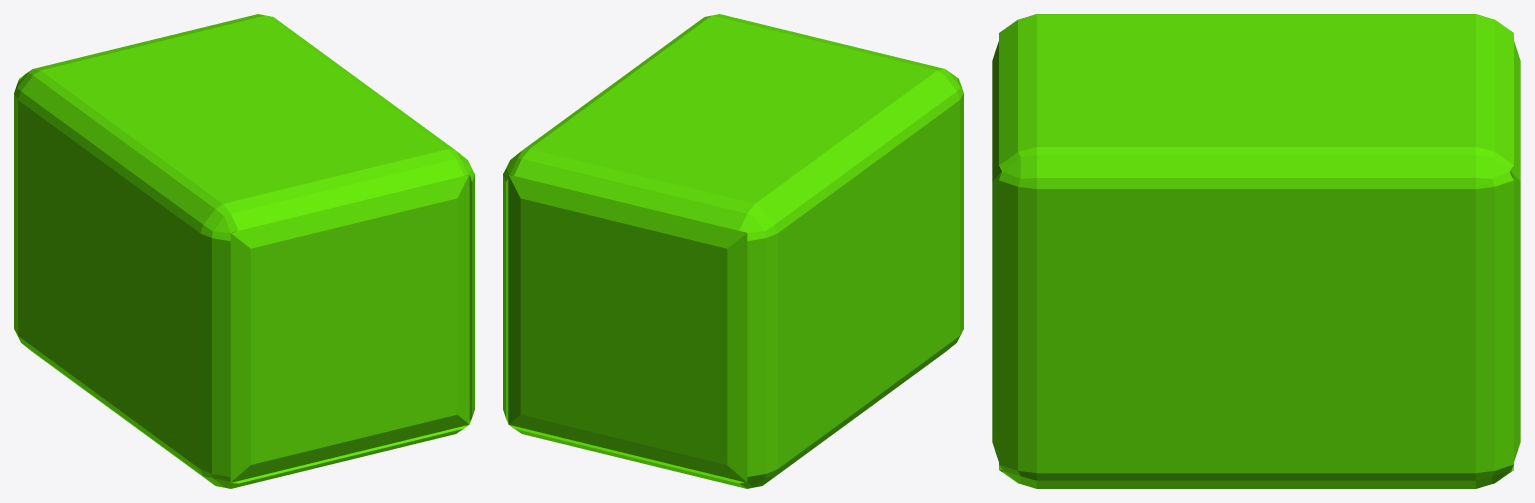
The model's file is SM_Castle_Wall3.fbx.
The picture shows the model from 3 angles, left to right: view 1: azimuth 30°, elevation 25°; view 2: azimuth 150°, elevation 25°; view 3: azimuth 270°, elevation 25°; orthographic projection. The views are drawn at different scales.
Parts seen in each view (by area): view 1: Cube.015; view 2: Cube.015; view 3: Cube.015.
Part boxes in pixels (x1=…): Cube.015: x1=14, y1=14, x2=474, y2=488; Cube.015: x1=503, y1=14, x2=963, y2=488; Cube.015: x1=992, y1=14, x2=1520, y2=488.
Bounding box in the file's own units: 97.75 × 97.75 × 137.
